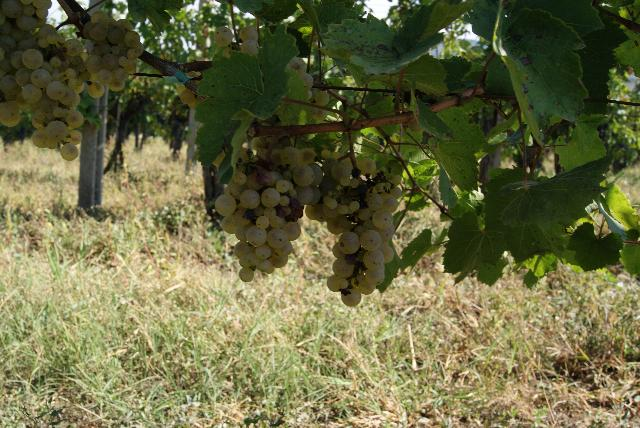grapes: (215, 139, 315, 282), (311, 159, 401, 306), (15, 25, 90, 160), (84, 10, 142, 98), (0, 0, 36, 126)
